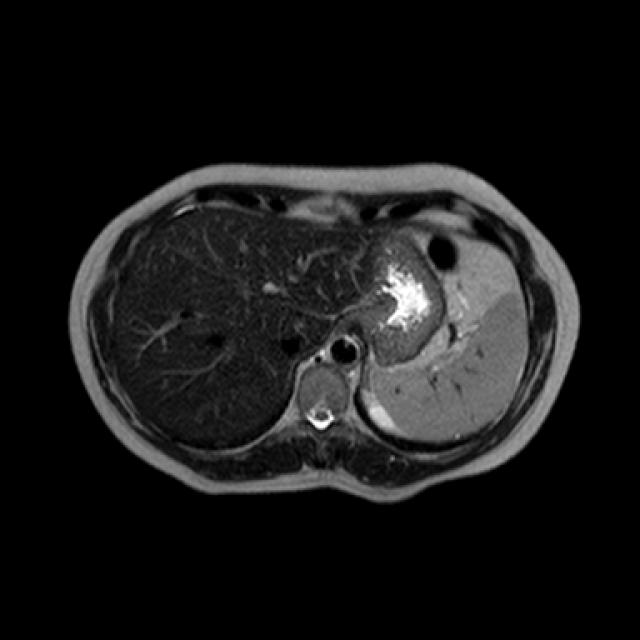sol: (360, 388, 400, 436)
